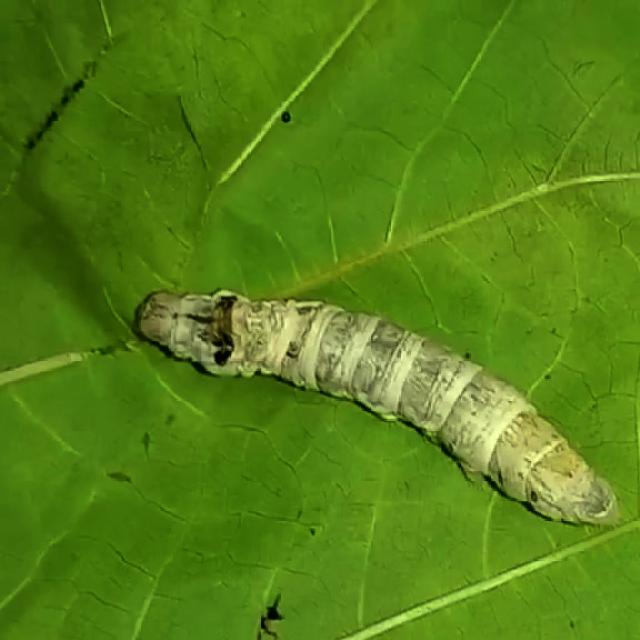Grasserie: (132, 268, 621, 541)
